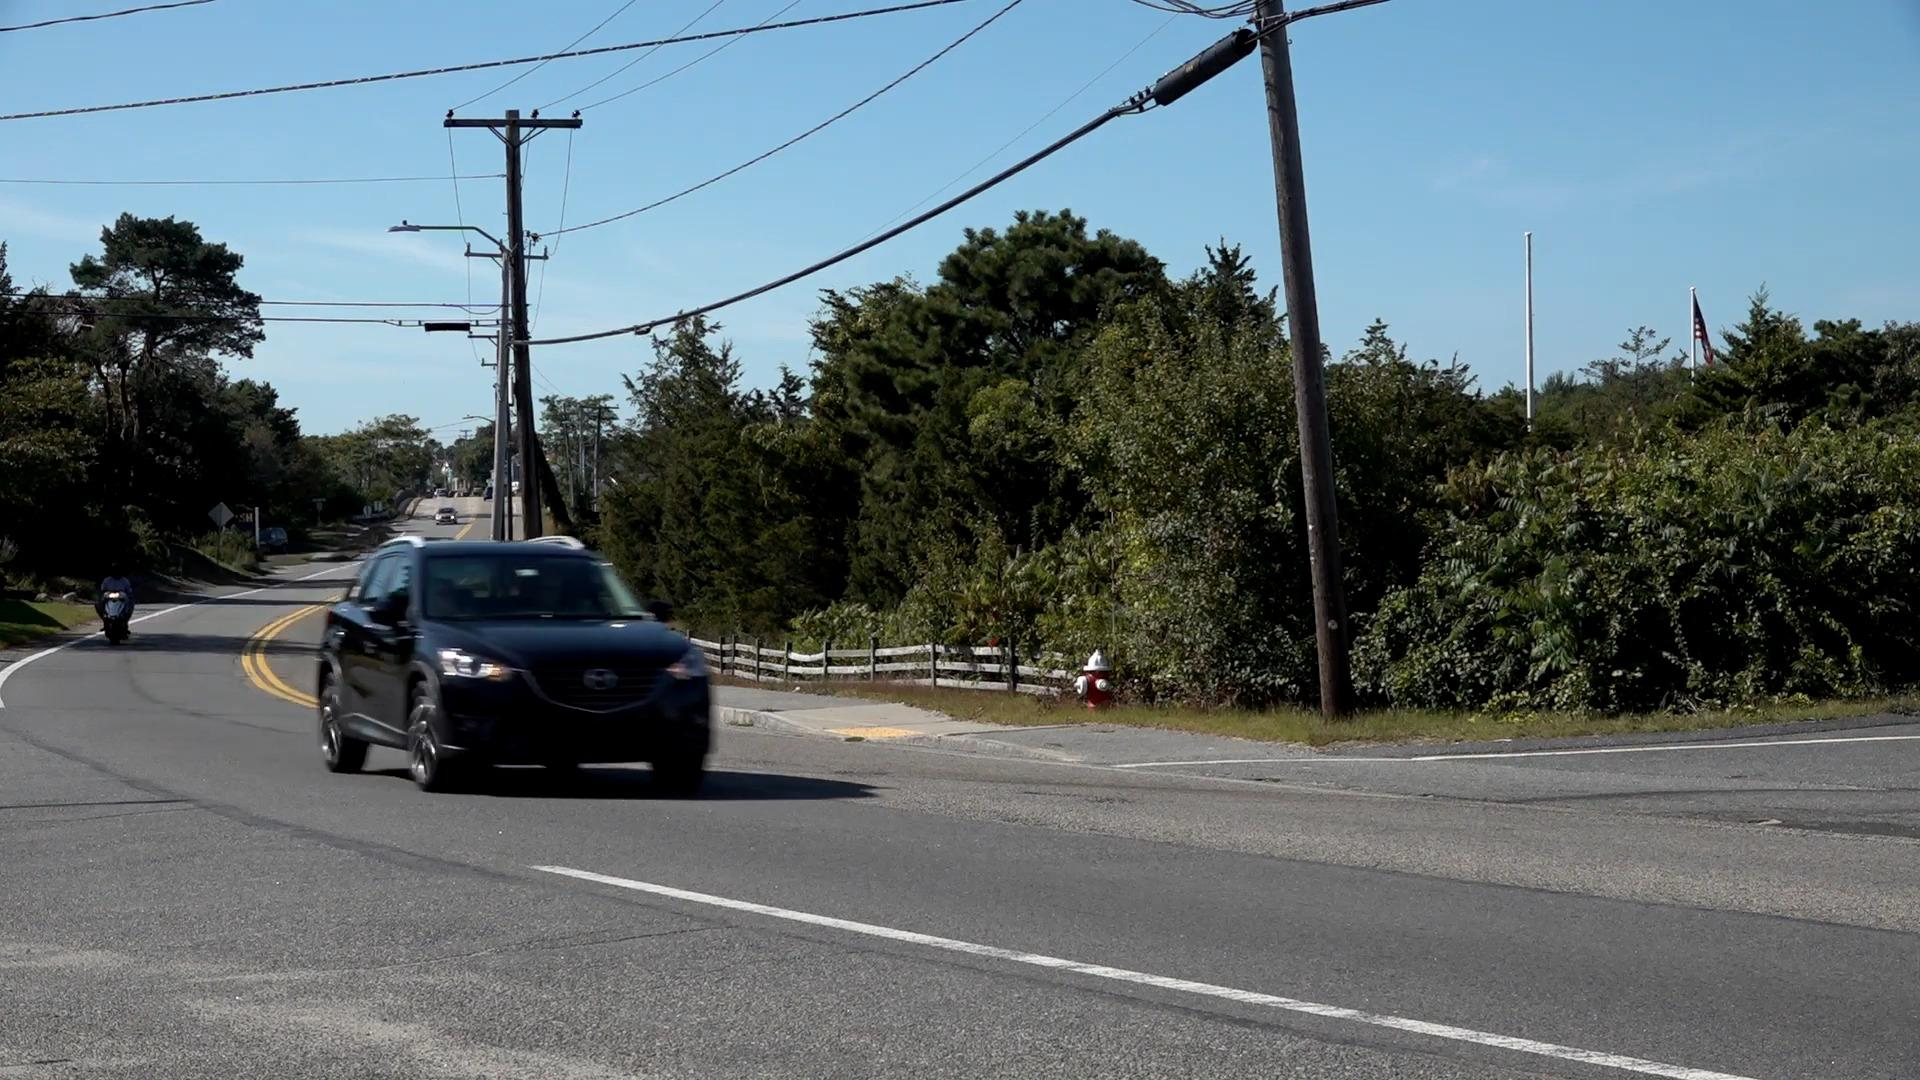suv: (318, 521, 719, 804)
